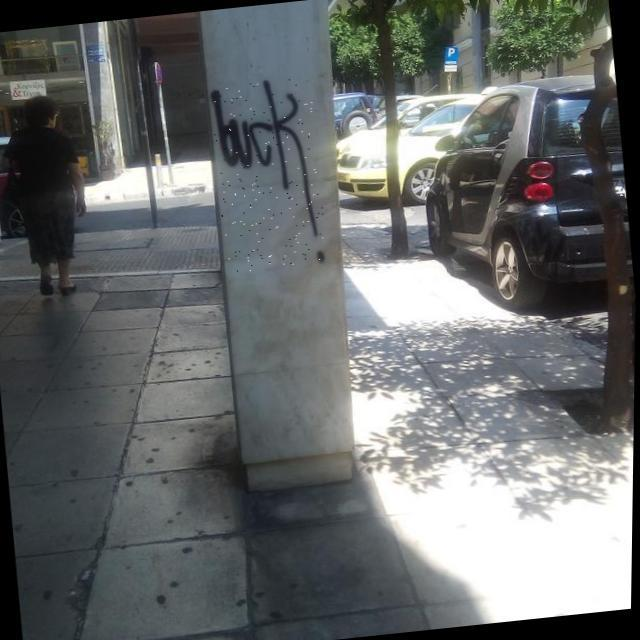-: (208, 75, 330, 274)
